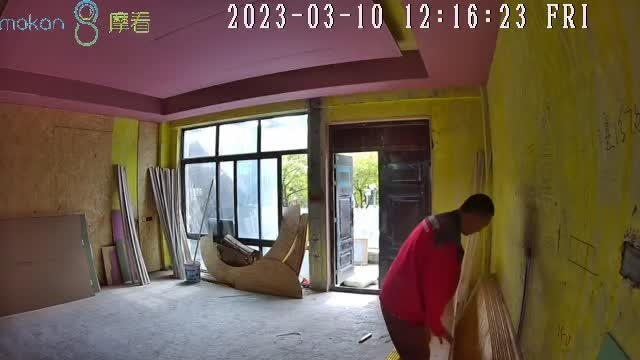people: (380, 194, 496, 360)
window: (178, 114, 310, 273)
